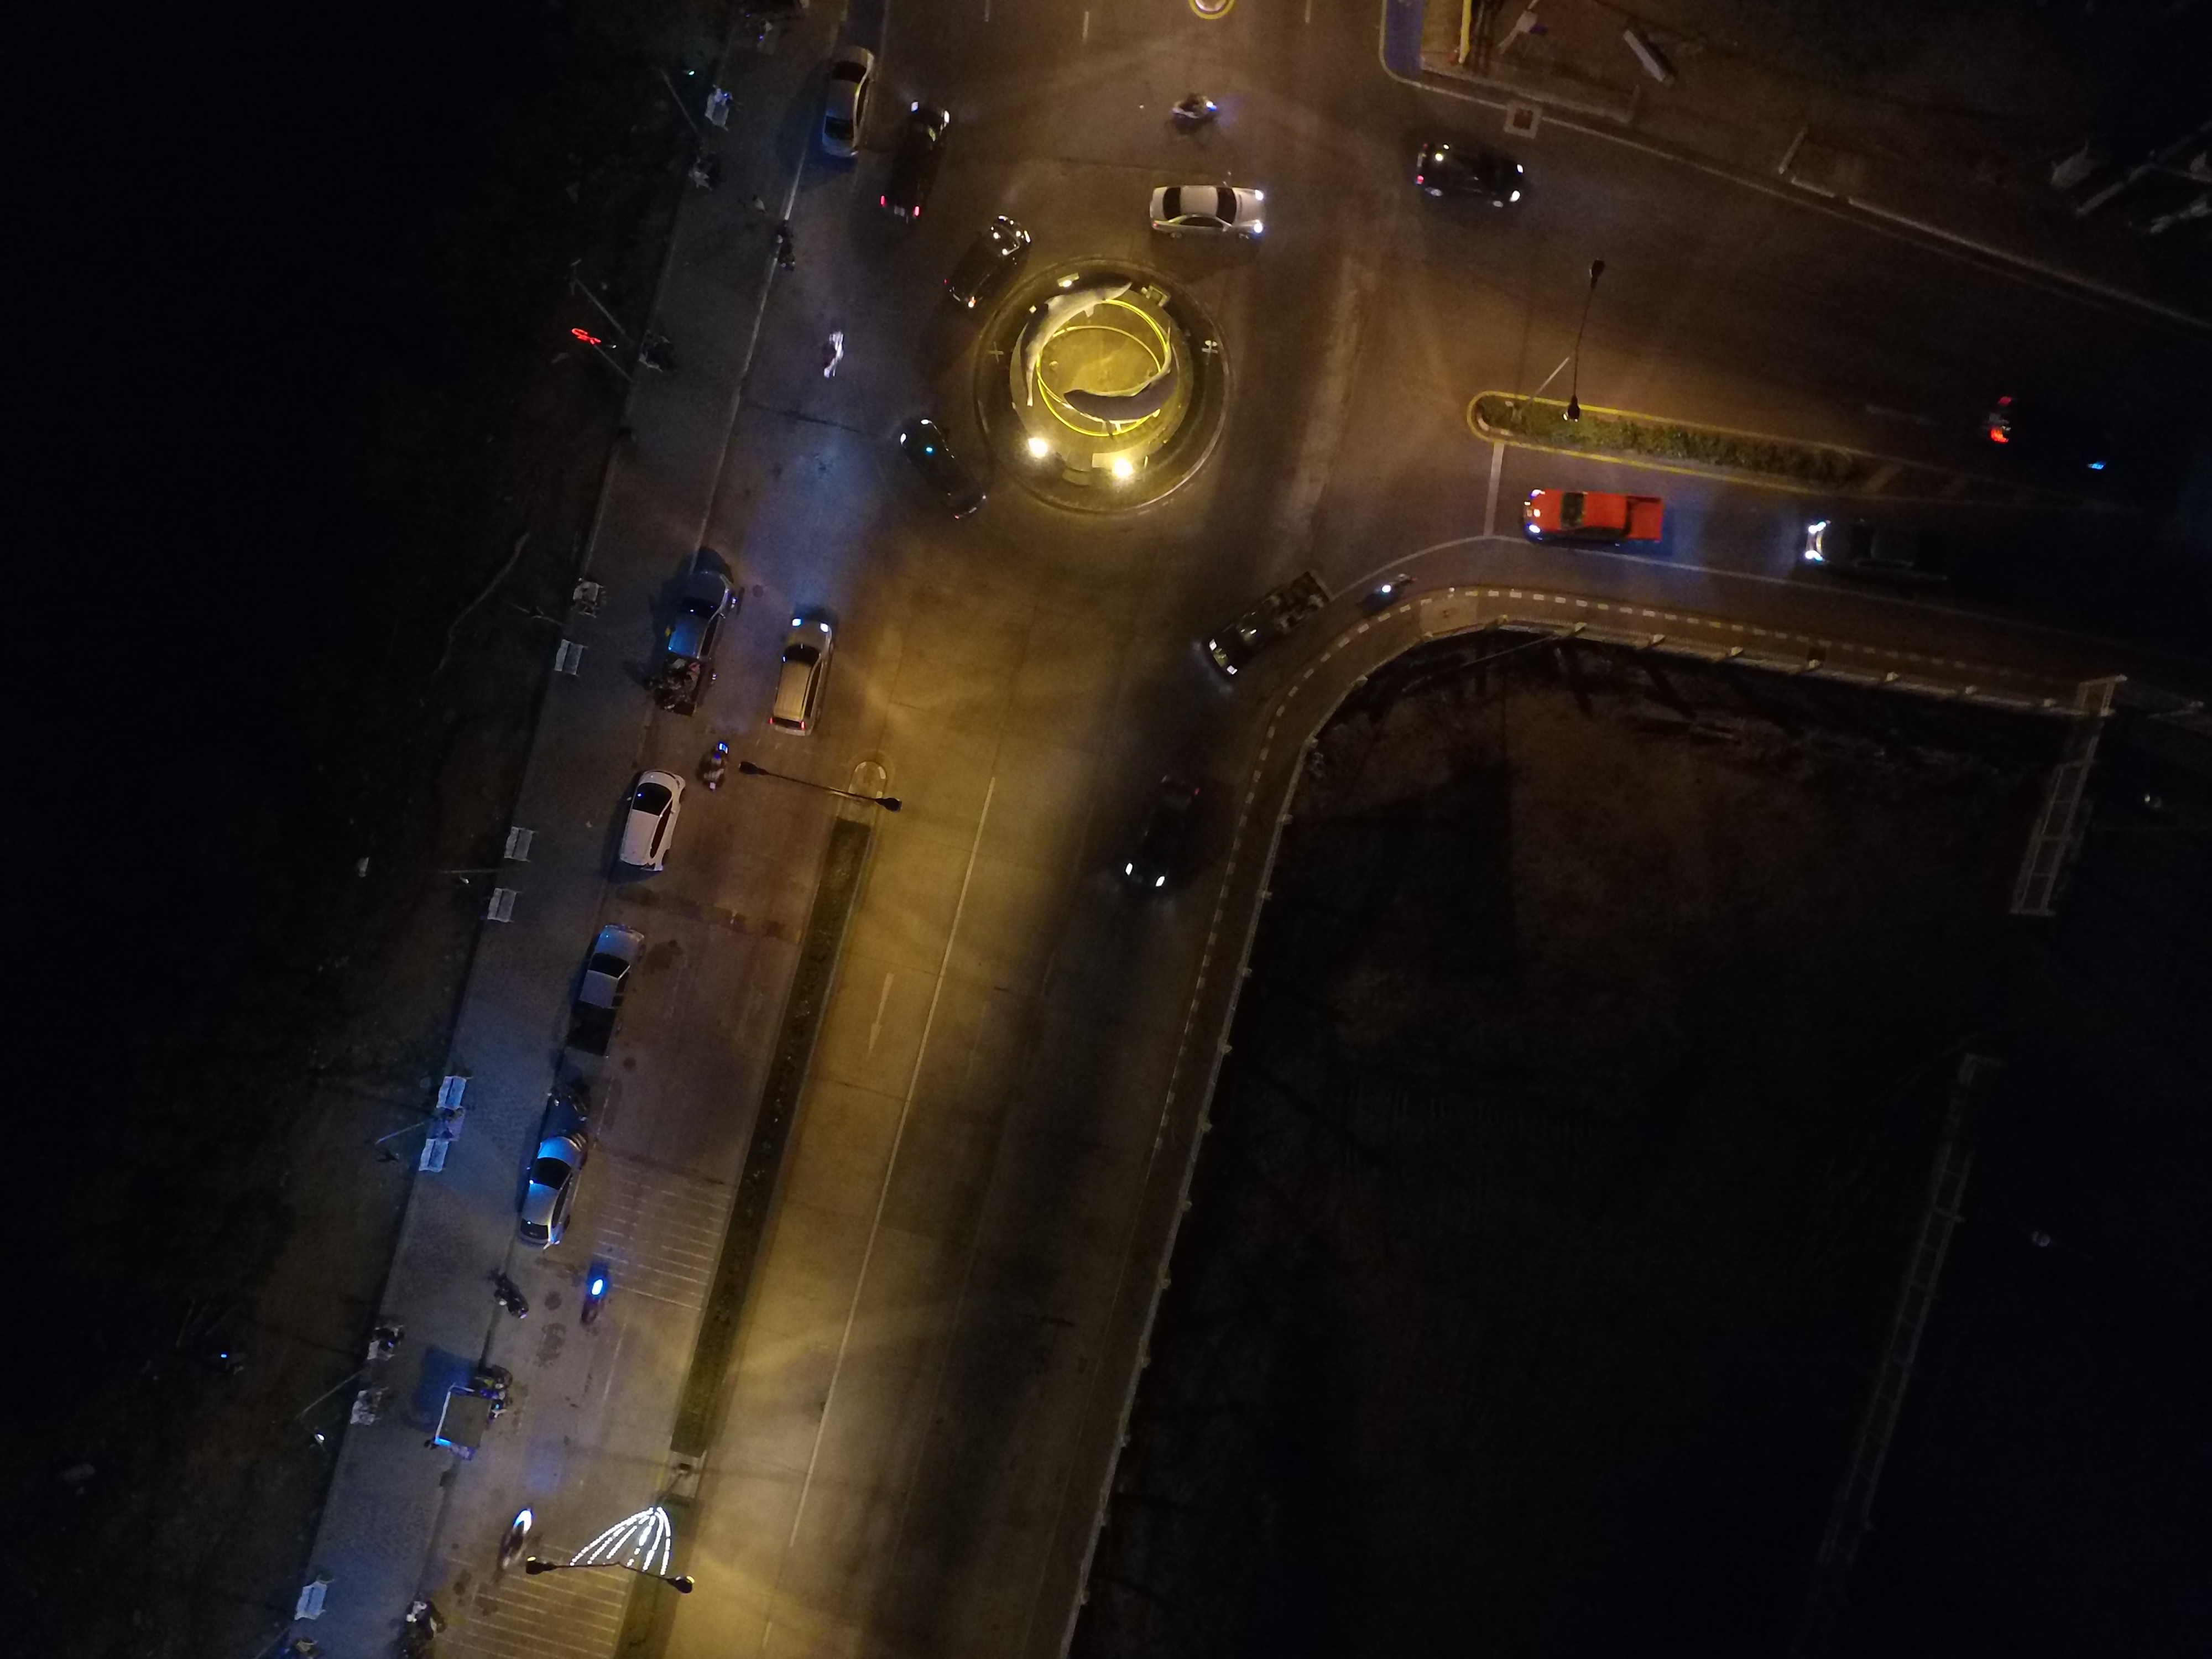car: (1204, 556, 1343, 681), (873, 410, 1012, 535), (1381, 139, 1554, 235), (1120, 169, 1292, 265), (1515, 477, 1688, 572), (1794, 511, 1958, 605), (507, 1112, 611, 1258), (787, 37, 907, 164), (744, 613, 864, 741), (552, 922, 657, 1066), (505, 1112, 610, 1256), (641, 561, 759, 688), (599, 755, 718, 882), (918, 207, 1052, 317)
